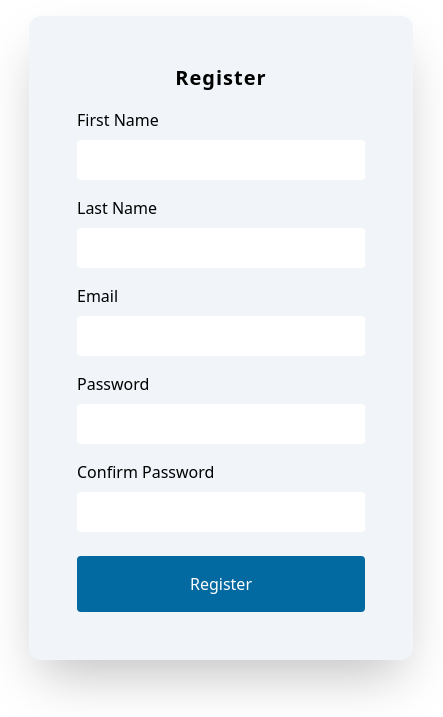
Test case: should show required error message for respective form fields when form is submitted without any values
The width and height of the screenshot is (443, 717).
Step 1. Click the button "Register" → (221, 584), box [77,556,365,612]
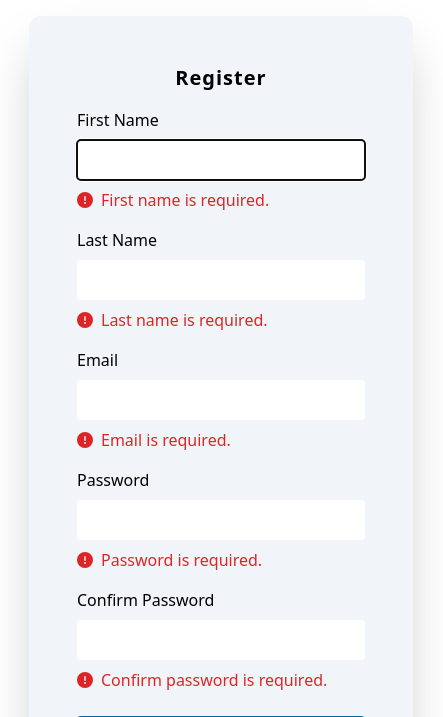
Expected: the text "First name is required." is shown, [77,189,269,211]
Expected: the text "Last name is required." is shown, [77,309,268,331]
Expected: the text "Email is required." is shown, [77,429,231,451]
